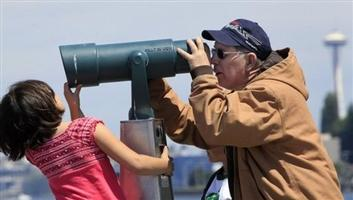person: (146, 20, 343, 200)
